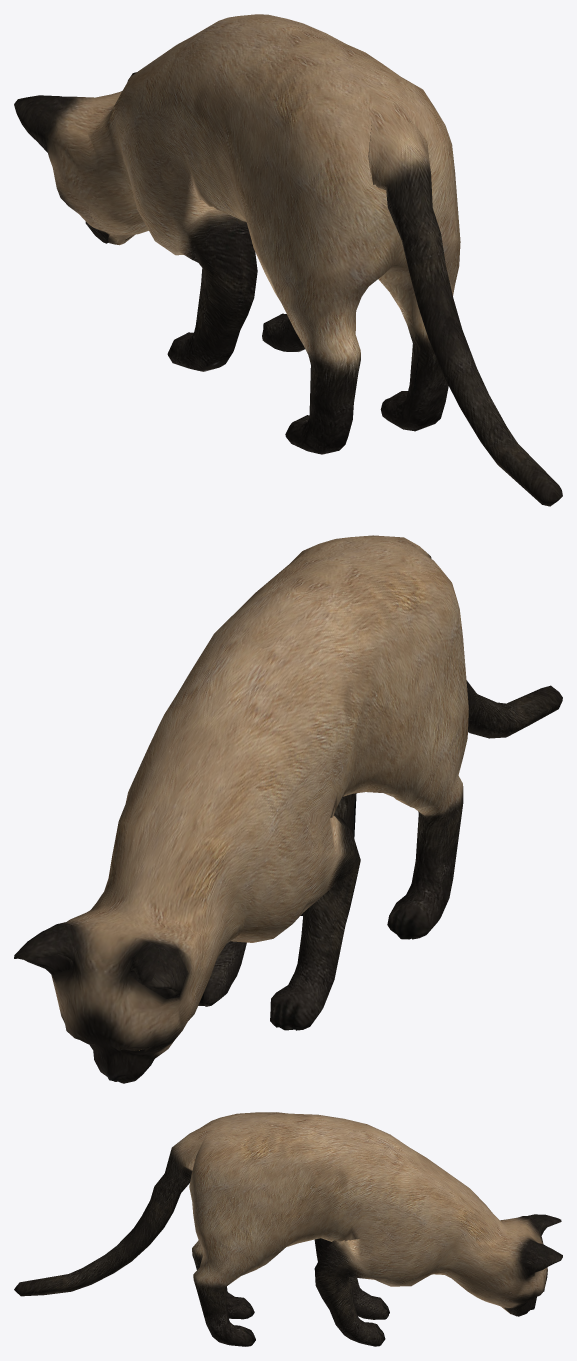
The model's file is Cat.FBX.
3 views of the same model, one above another, from view 1: azimuth 30°, elevation 25°; view 2: azimuth 150°, elevation 25°; view 3: azimuth 270°, elevation 25° (orthographic). The views are drawn at different scales.
Visible parts, largest first — view 1: cat; view 2: cat; view 3: cat.
Boxes of the visible parts, x1,y1,x2,y2 form: cat: [14, 14, 562, 506]; cat: [14, 535, 562, 1083]; cat: [14, 1112, 562, 1346].
Size of the model in its own units: 14.15 by 31.29 by 72.37.
1 material, 1 textured.
